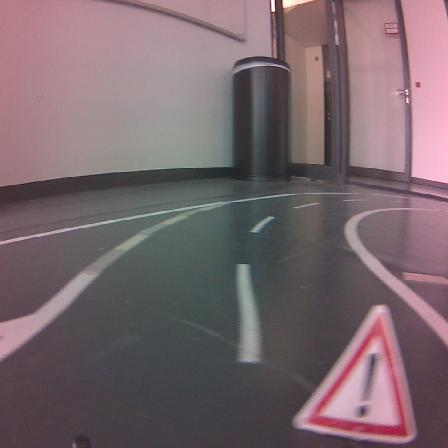ATTENTION: (293, 305, 415, 442)
